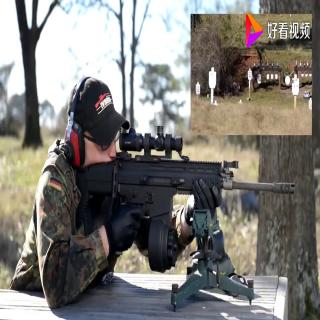gun: (75, 135, 299, 301)
